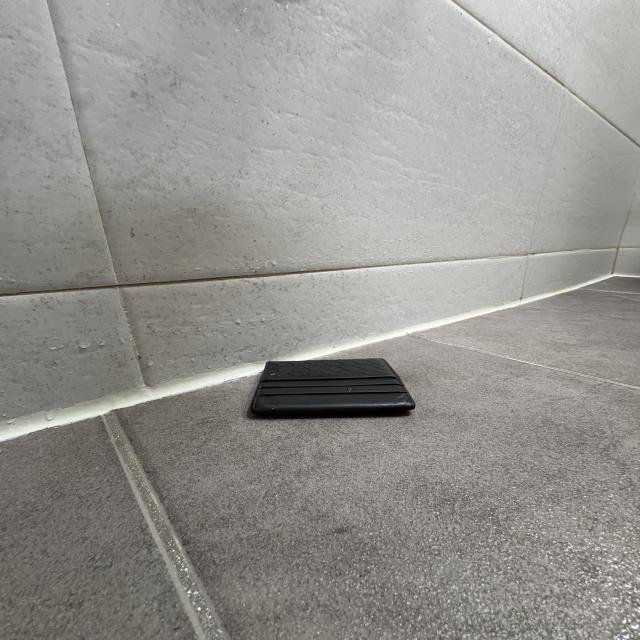wallet: (243, 356, 417, 422)
